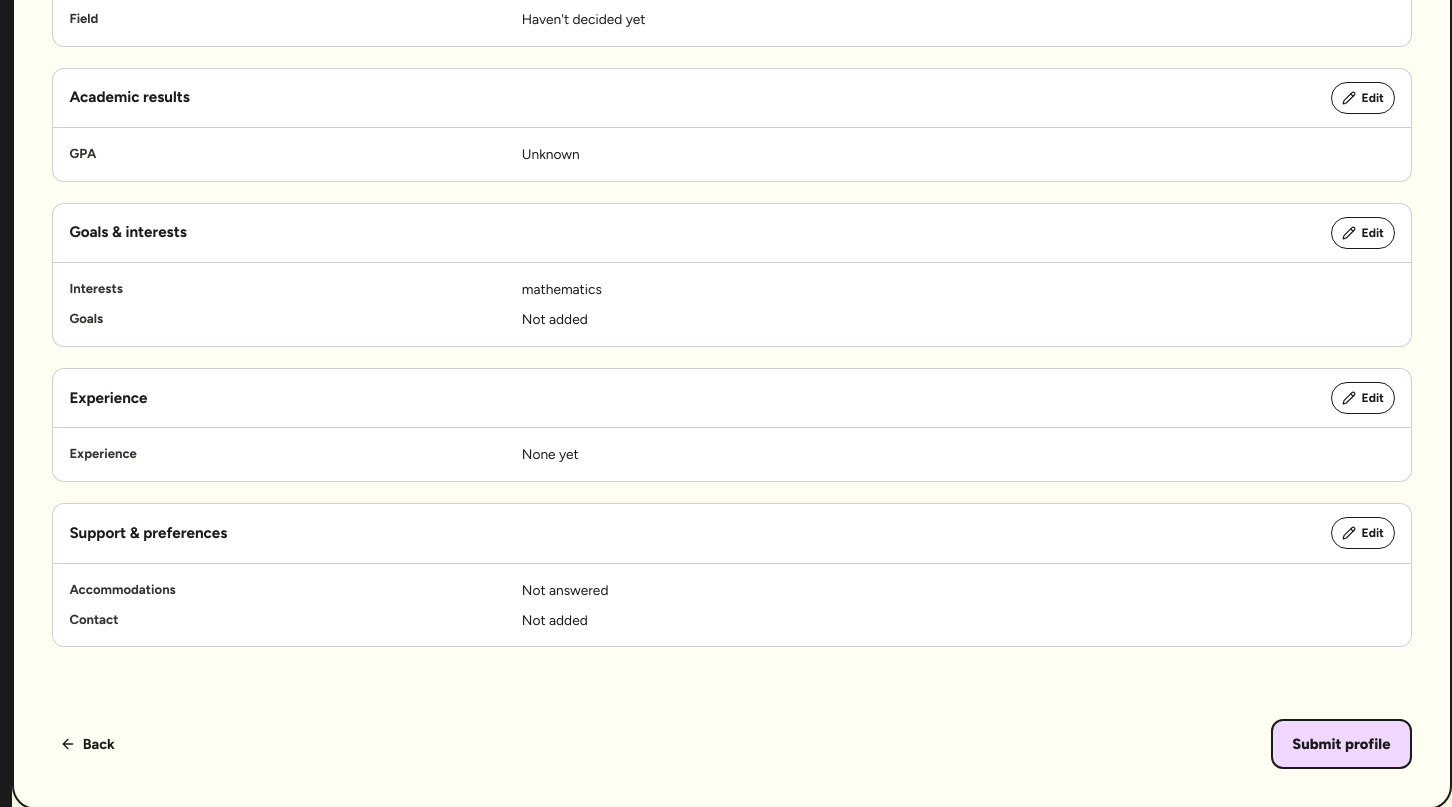
Test: OnboardingWizard › keeps the student on review and shows a banner when submit fails
This screenshot has width=1452, height=807.
(page scrolled)
What coordinates should you click on to do the following:
click the button "Submit profile"
I would click on:
 (1341, 744)
Its box is top-left (1271, 719), bottom-right (1412, 769).
(page scrolled)
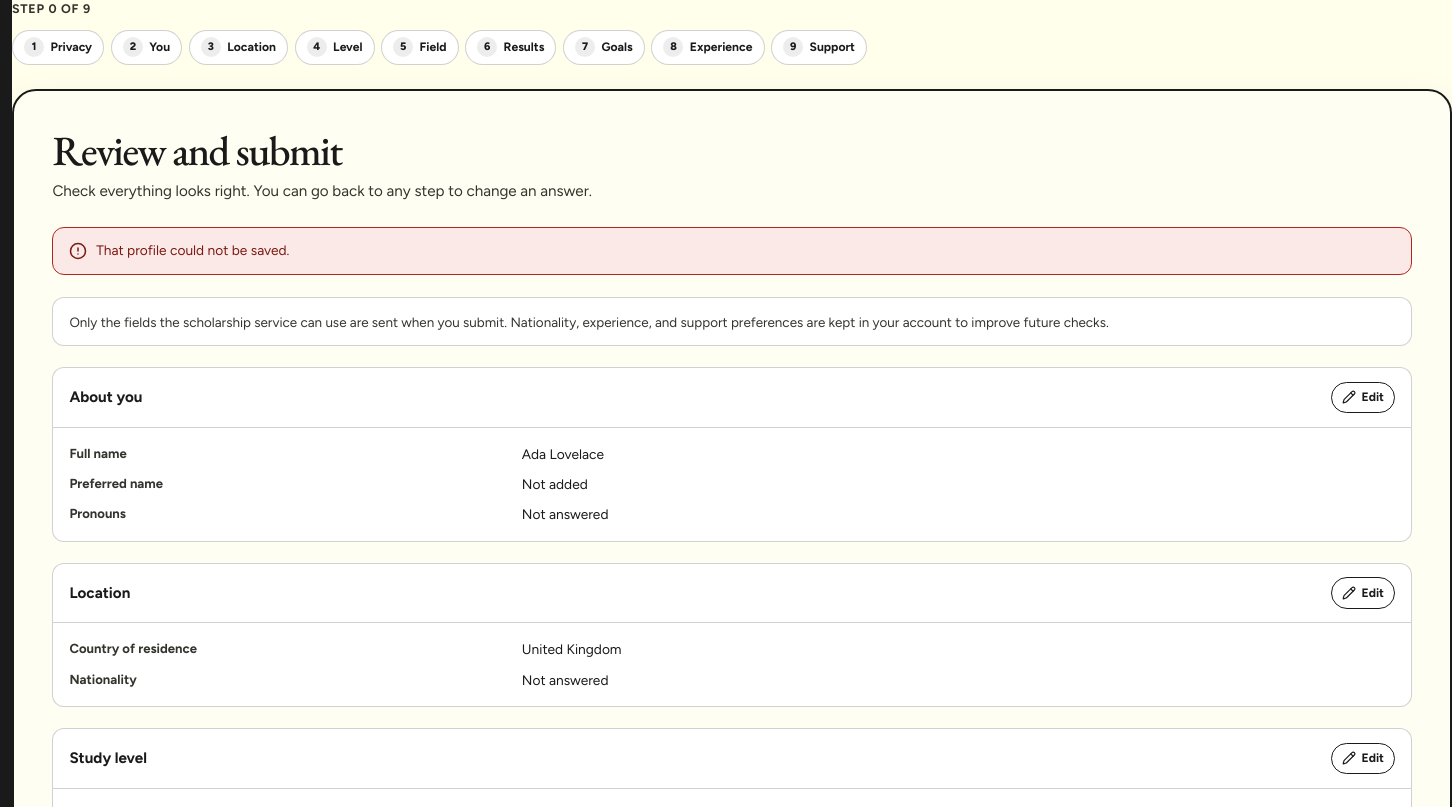
Expected: the text "That profile could not be saved." is shown, top-left (96, 241), bottom-right (290, 261)
